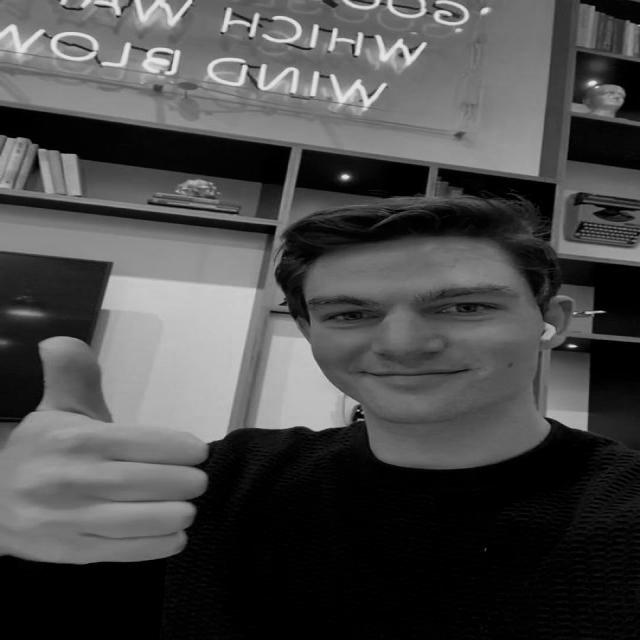real: (295, 234, 578, 424)
